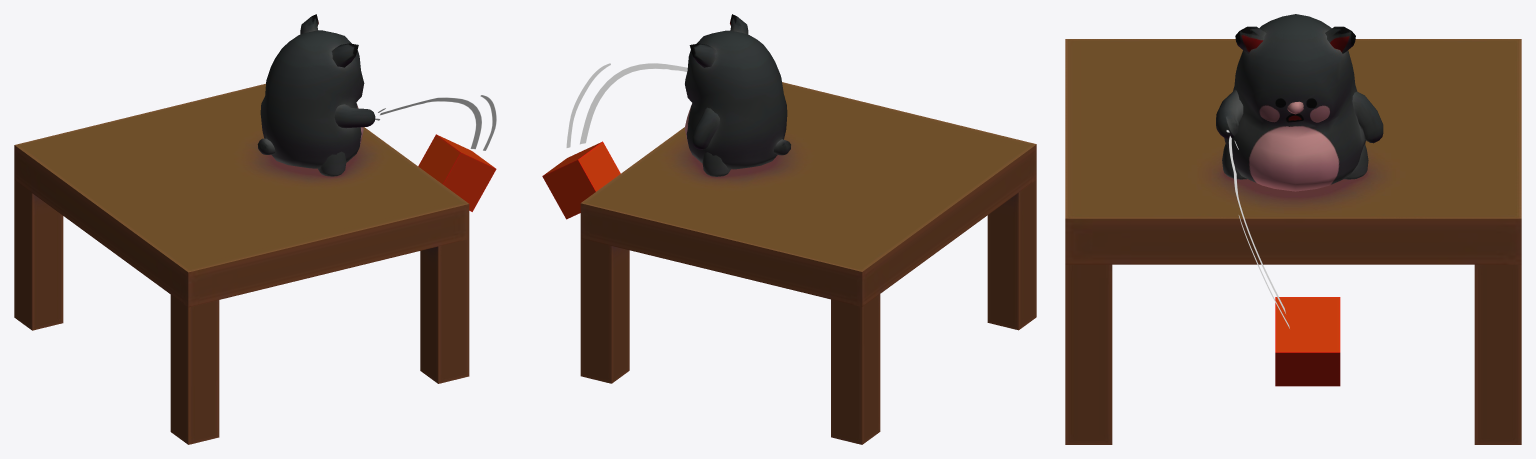
The model's file is cat_physics_-_3december2019_physics-v1.glb.
3 views of the same model, side by side, from view 1: azimuth 30°, elevation 25°; view 2: azimuth 150°, elevation 25°; view 3: azimuth 270°, elevation 25° (orthographic). The views are drawn at different scales.
Parts seen in each view (by area): view 1: defaultMaterial (×4); view 2: defaultMaterial (×4); view 3: defaultMaterial (×4).
Part boxes in pixels (x1,y1,x2,y2): defaultMaterial (×4): (14,14,496,444); defaultMaterial (×4): (542,14,1036,444); defaultMaterial (×4): (1065,14,1521,444).
Size of the model in its own units: 2 by 1.42 by 1.53.
Materials: 4 (4 with a texture image).
